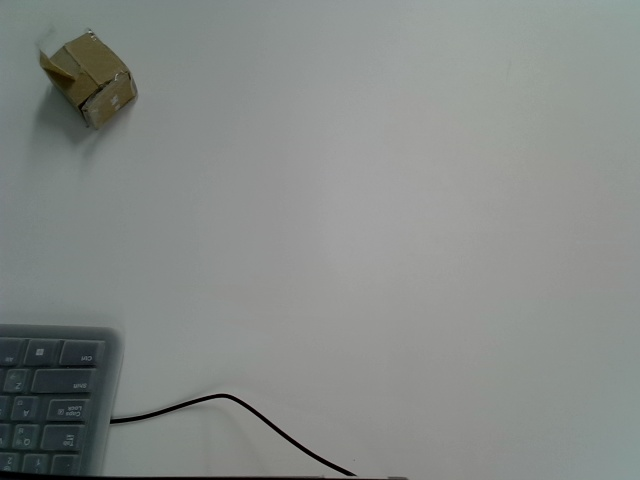defect: (33, 23, 137, 133)
